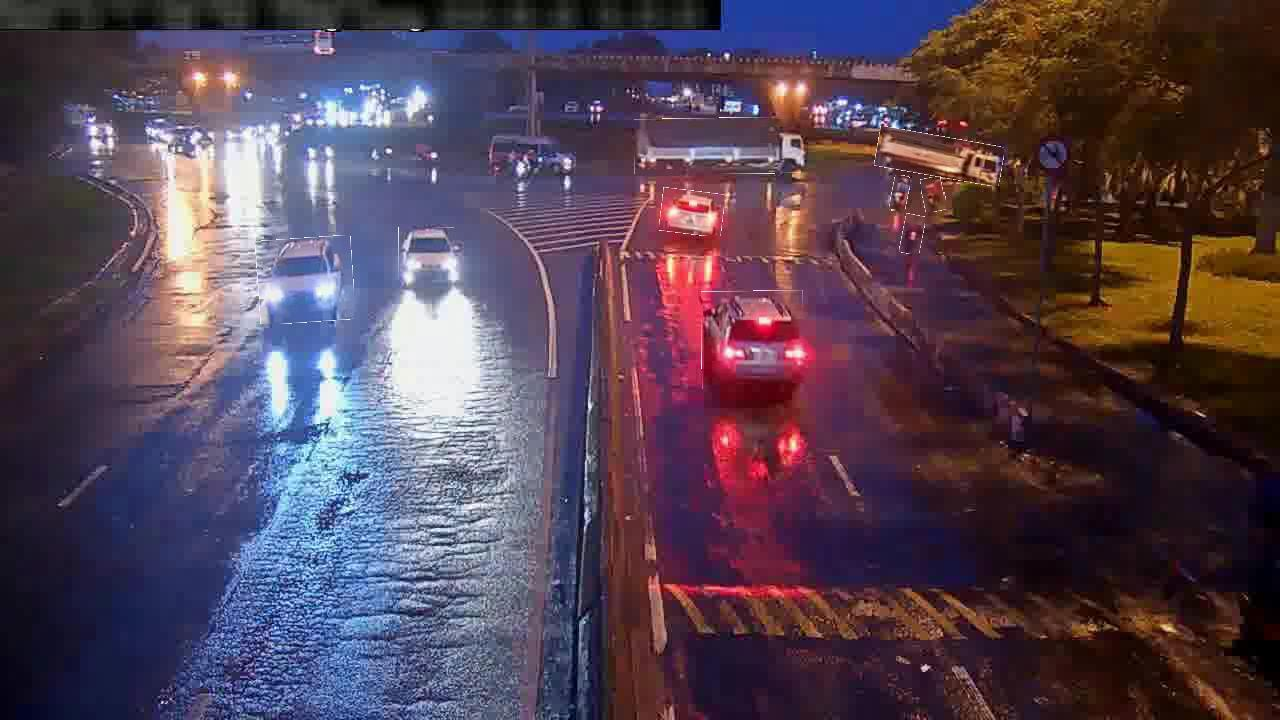car: (702, 291, 804, 390), (257, 236, 354, 324), (398, 227, 455, 281), (660, 189, 724, 236)
container: (634, 118, 802, 175), (876, 132, 1004, 182)
motorbike: (901, 214, 925, 255), (922, 177, 946, 213), (890, 176, 910, 212)
